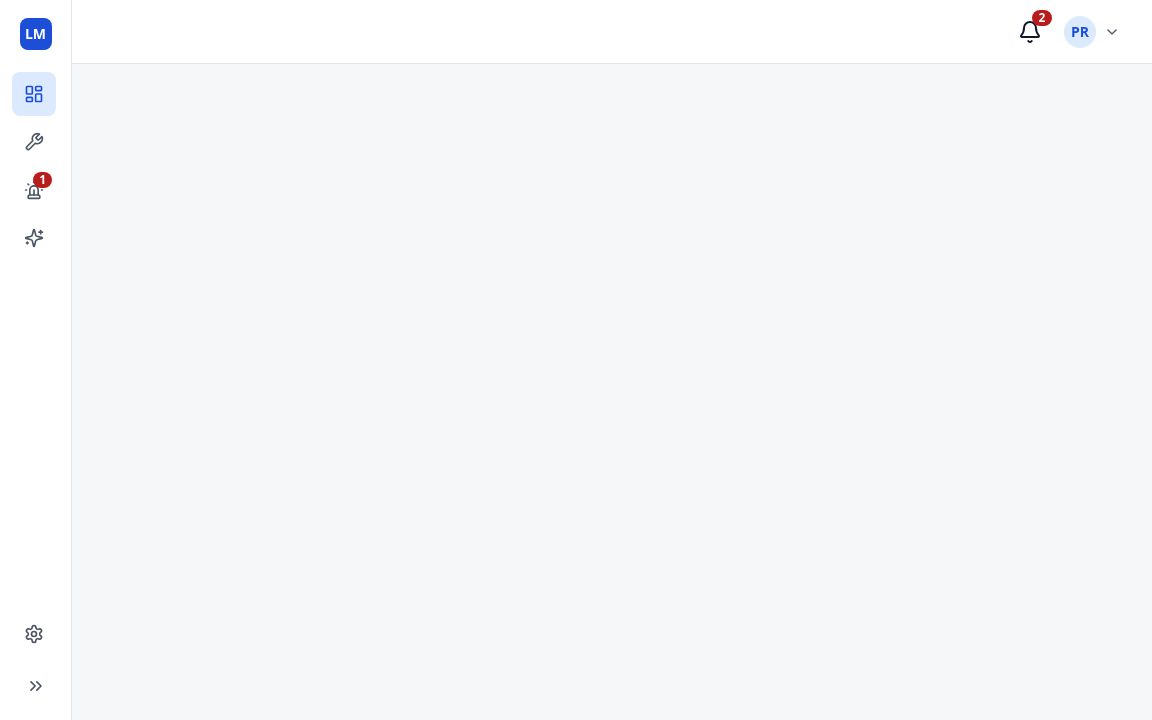
Test: AppBar › lists the latest notifications and marks them all read
Click the button named "Notifications, 2 unread". click: point(1030, 32)
box: [1008,10,1052,54]
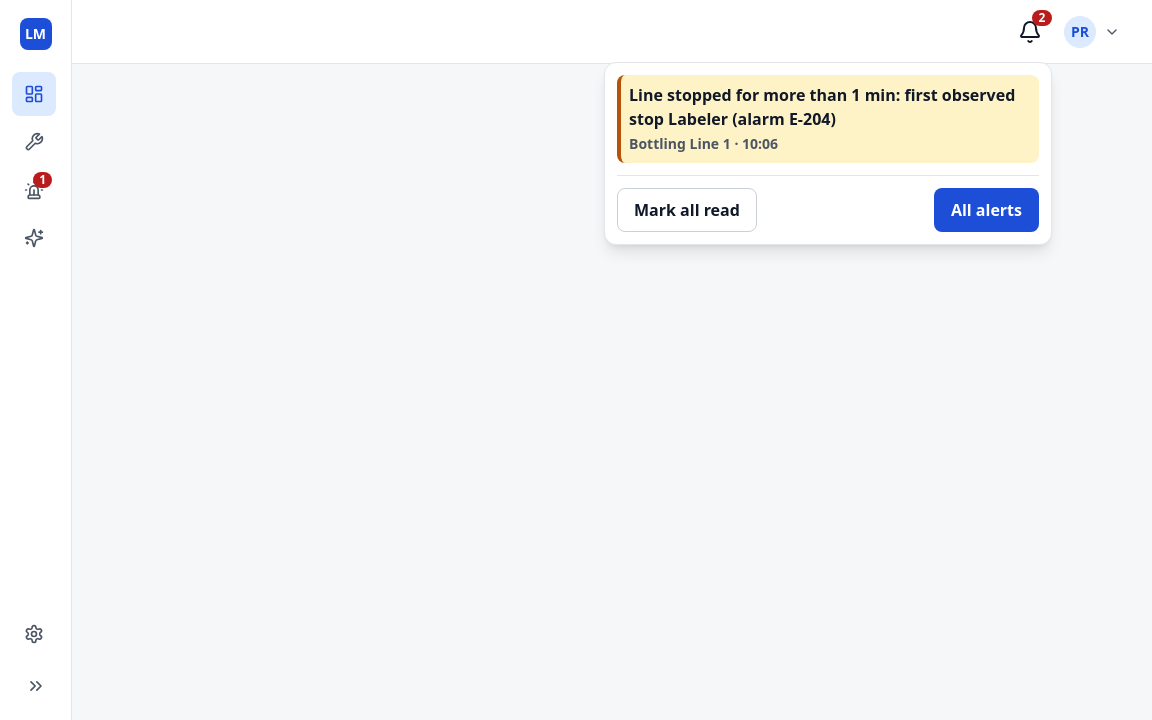
Expected: the text "Line stopped for more than 1 min: first observed stop Labeler (alarm E-204)" is shown, [629,82,1031,130]
Click the button "Mark all read". click: point(687, 210)
box: [617,188,757,232]
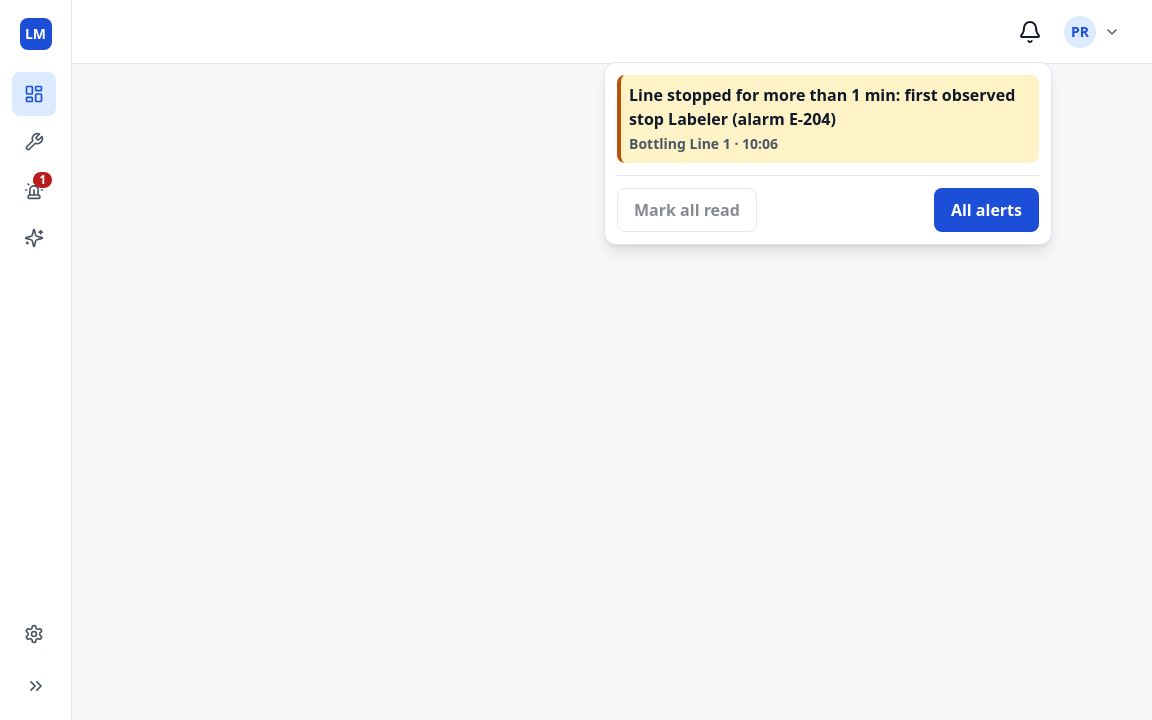
Expected: the text with test id "bell-count" is gone
